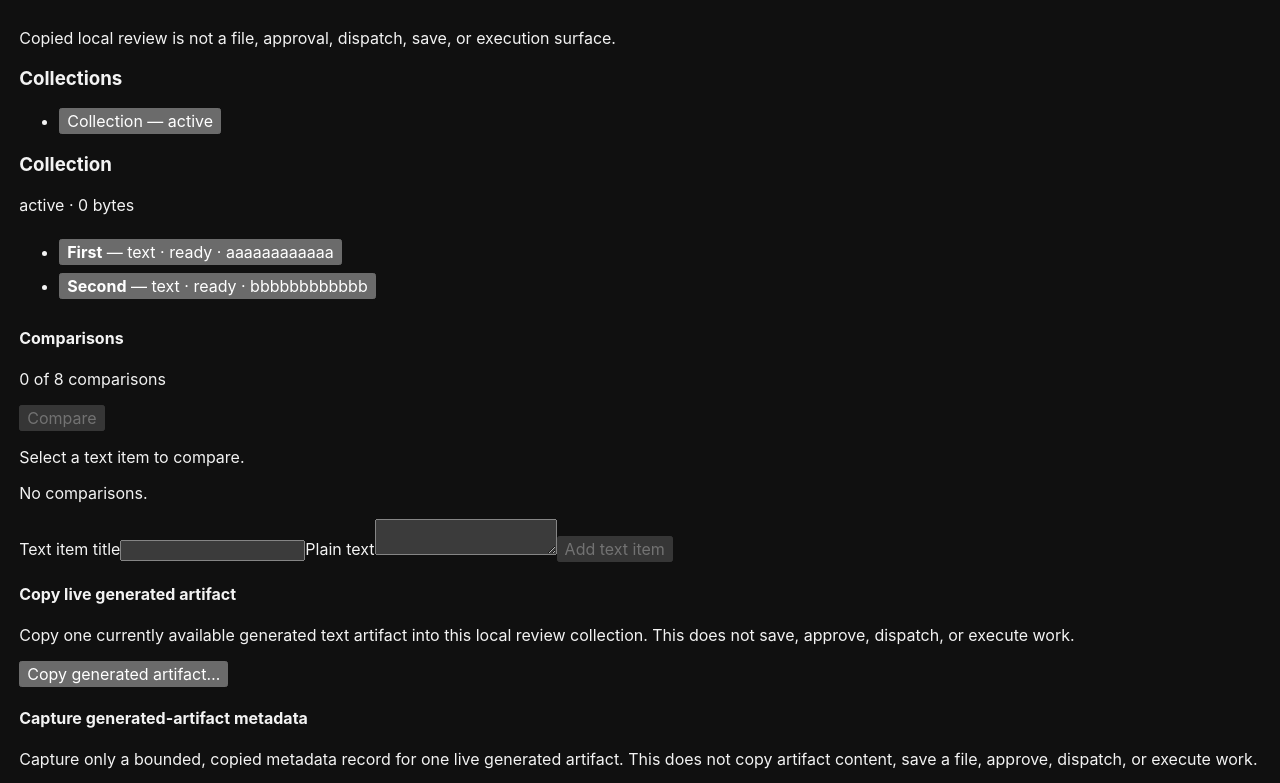
local review image pane › renders native text previews inertly and withholds a late prior selection
Click the button "First — text": (200, 252) [59,239,342,265]
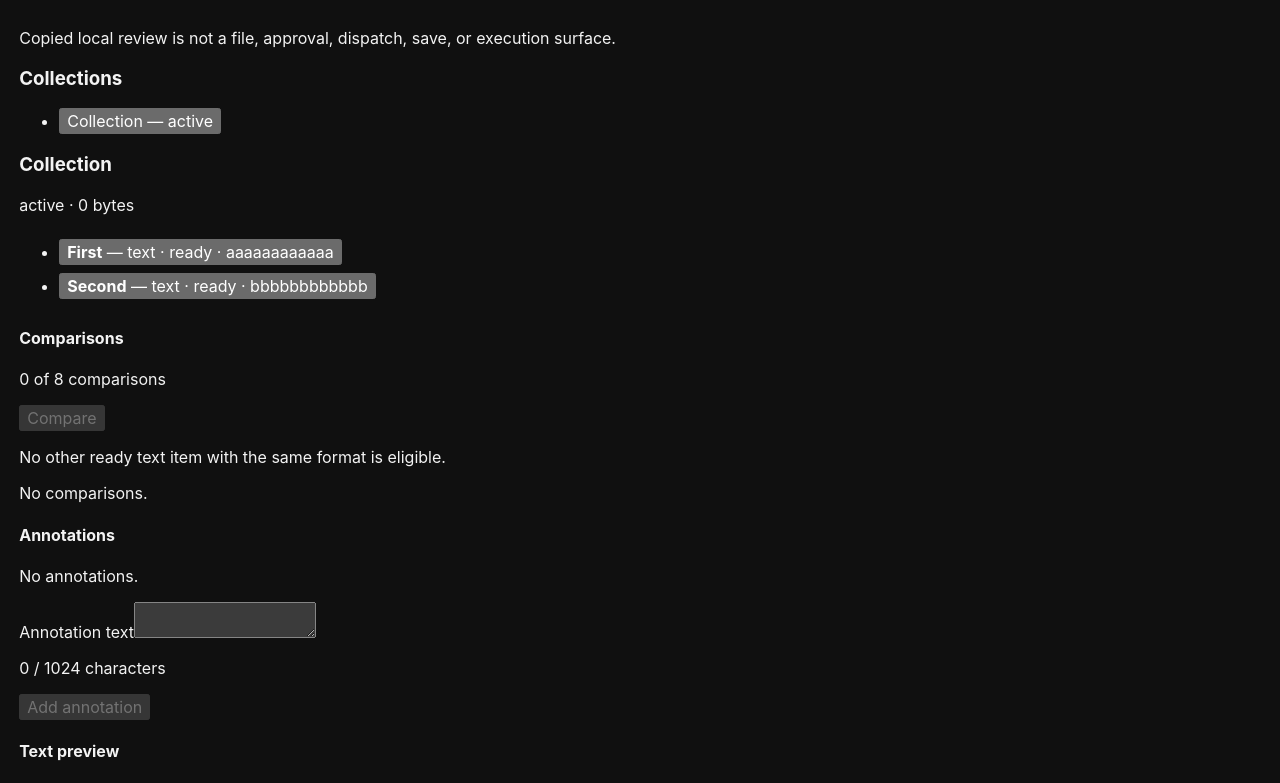
Click the button "Second — text": (217, 286) [59,273,376,299]
(page scrolled)
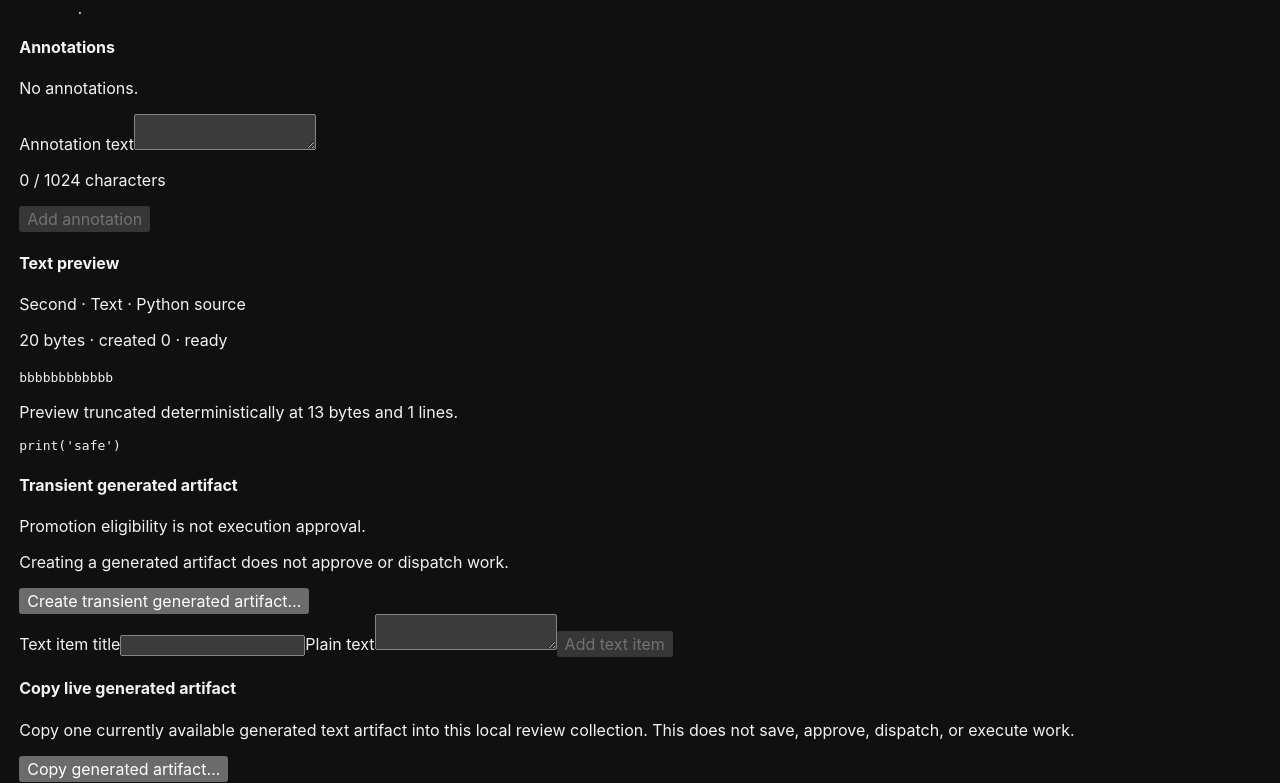
Expected: the text "print('safe')" is shown, [19,438,121,454]
Expected: the text "Preview truncated deterministically at 13 bytes and 1 lines." is shown, [19,402,458,422]
